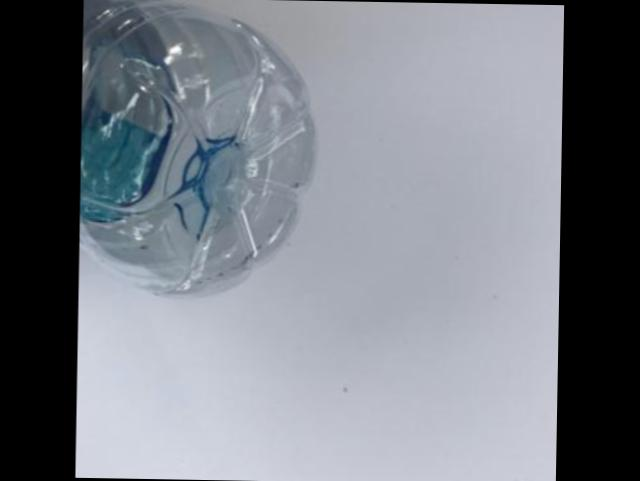plastic: (79, 0, 317, 296)
